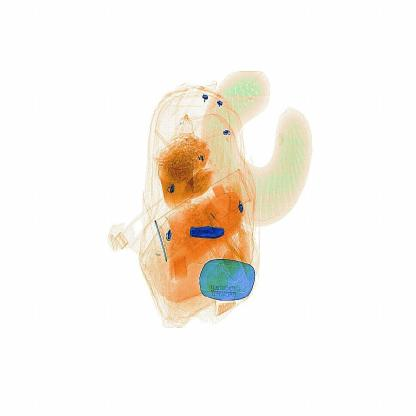knife: (184, 224, 228, 244)
